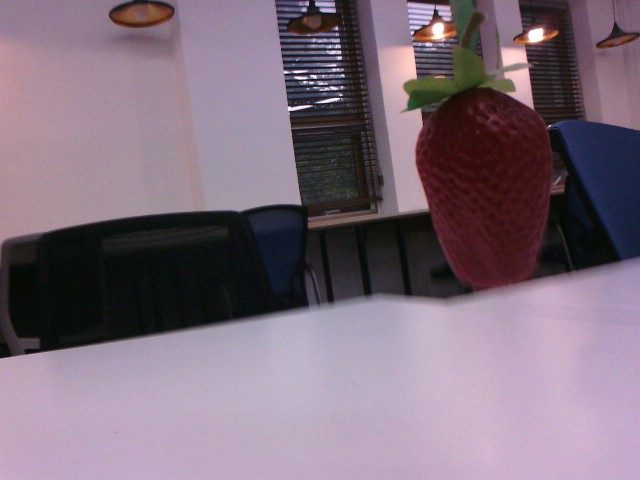strawberry: (412, 69, 564, 291)
